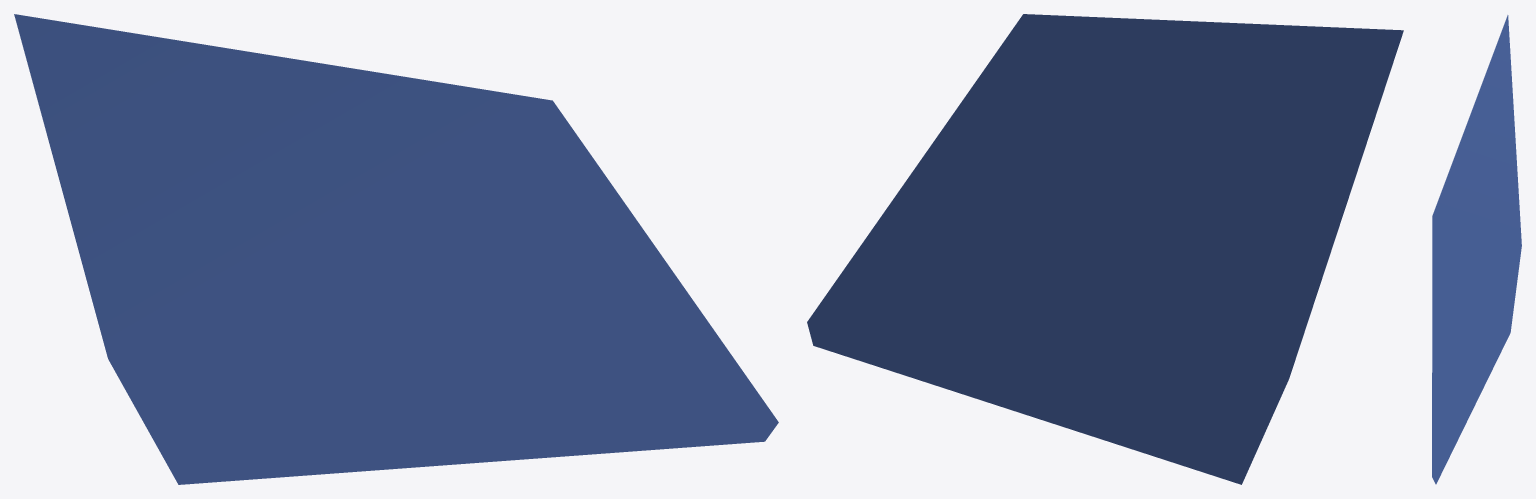
Rendered from SM_Glass_Top_Left.fbx.
3 views of the same model, side by side, from view 1: azimuth 30°, elevation 25°; view 2: azimuth 150°, elevation 25°; view 3: azimuth 270°, elevation 25° (orthographic). The views are drawn at different scales.
Parts seen in each view (by area): view 1: Glass_Top_Left_Mesh; view 2: Glass_Top_Left_Mesh; view 3: Glass_Top_Left_Mesh.
Part boxes in pixels (x1,y1,x2,y2): Glass_Top_Left_Mesh: [14, 14, 778, 484]; Glass_Top_Left_Mesh: [807, 14, 1403, 484]; Glass_Top_Left_Mesh: [1432, 15, 1521, 484].
Bounding box in the file's own units: 172 × 129 × 35.95.
